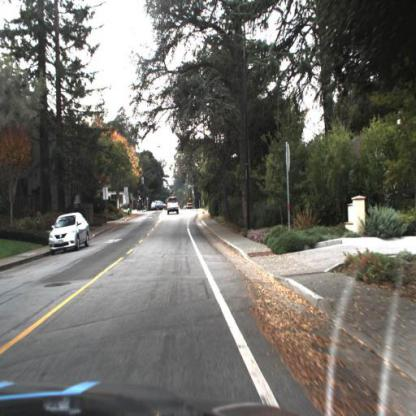car: (47, 210, 92, 256), (166, 196, 178, 218), (152, 199, 166, 210)
